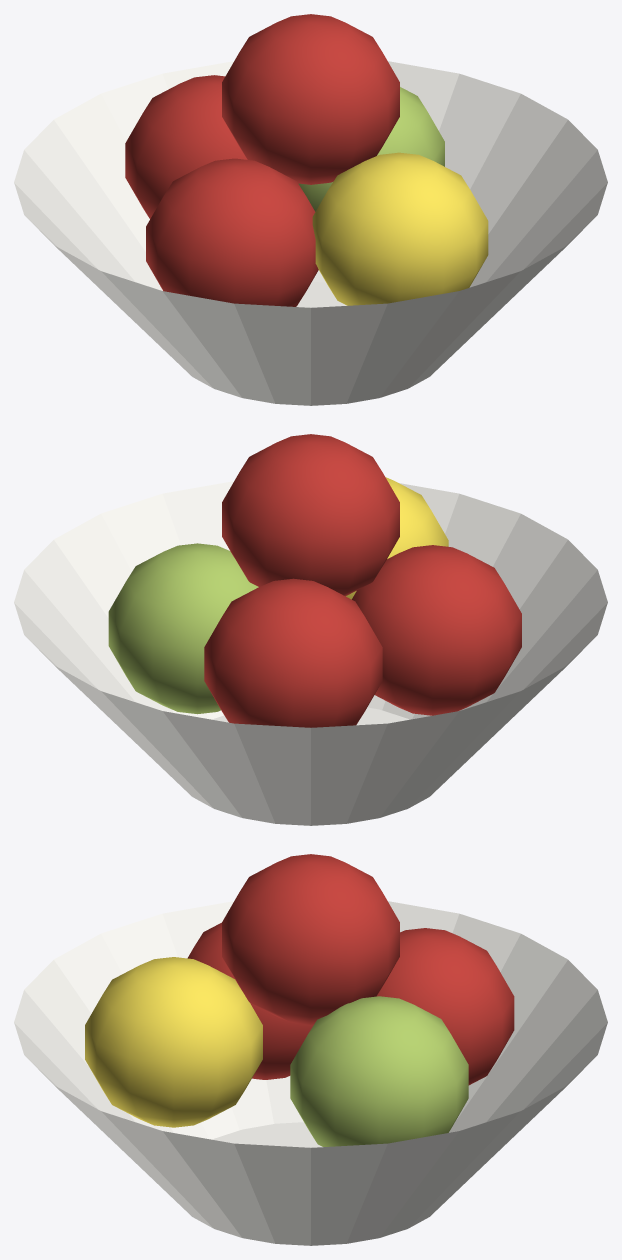
The model's file is fruit_bowl.glb.
3 views of the same model, one above another, from view 1: azimuth 30°, elevation 25°; view 2: azimuth 150°, elevation 25°; view 3: azimuth 270°, elevation 25° (orthographic).
Visible parts, largest first — view 1: tint_bowl, apple_red, lemon, apple_green; view 2: tint_bowl, apple_red, apple_green, lemon; view 3: tint_bowl, apple_red, lemon, apple_green.
Boxes of the visible parts, box(x1,y1,x2,y2) form: tint_bowl: box(14, 61, 607, 405); apple_red: box(125, 14, 399, 306); lemon: box(312, 152, 488, 305); apple_green: box(298, 87, 444, 211); tint_bowl: box(14, 481, 607, 825); apple_red: box(204, 434, 521, 727); apple_green: box(108, 543, 258, 714); lemon: box(346, 477, 448, 599); tint_bowl: box(14, 901, 607, 1245); apple_red: box(187, 854, 514, 1085); lemon: box(85, 957, 262, 1127); apple_green: box(290, 996, 468, 1146).
Size of the model in its own units: 0.26 by 0.1568 by 0.26.
